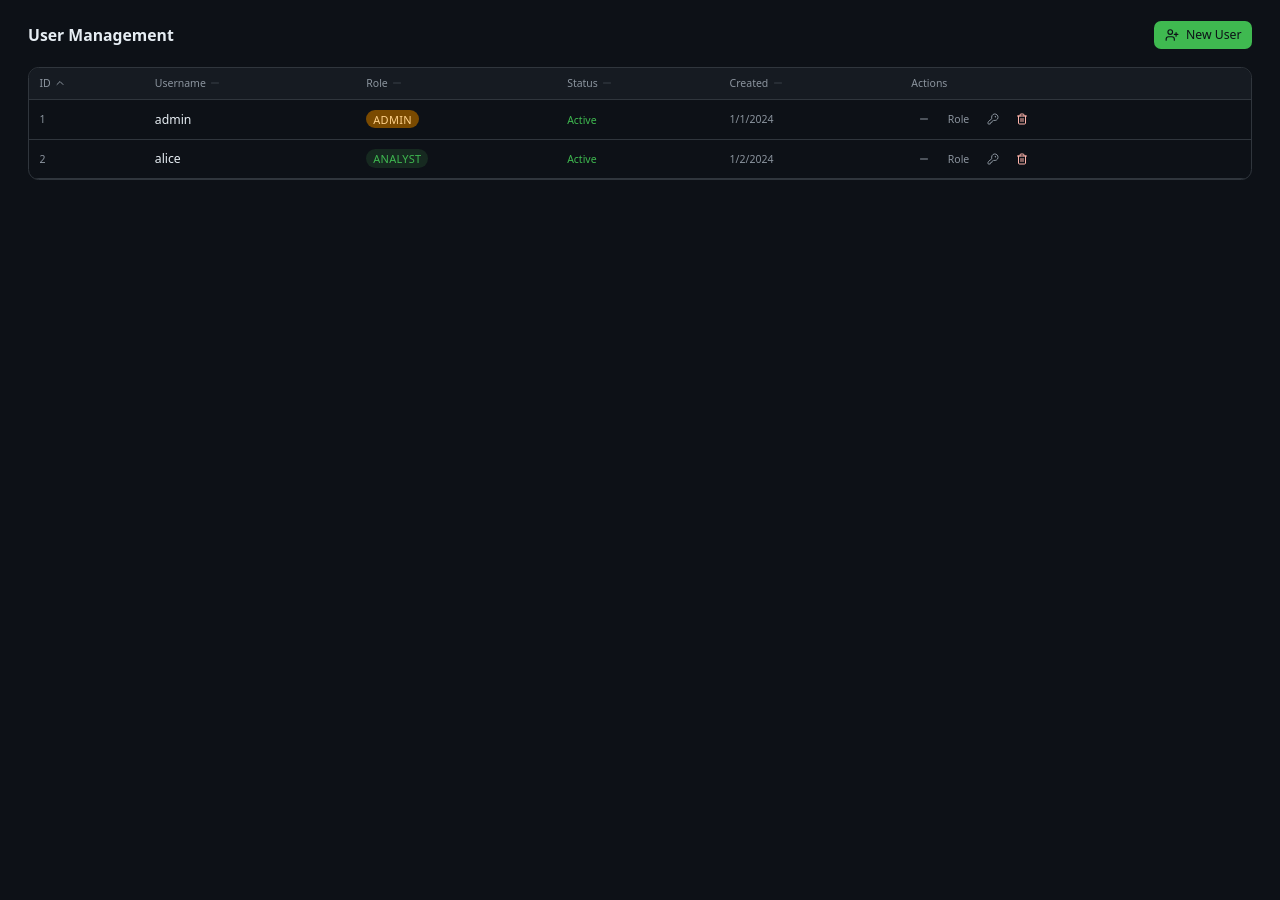
it: Users page › creates a user and refreshes list
This screenshot has width=1280, height=900.
# Open create dialog
Click the button with aria-label "create user": click(1203, 35) [1154,21,1252,49]
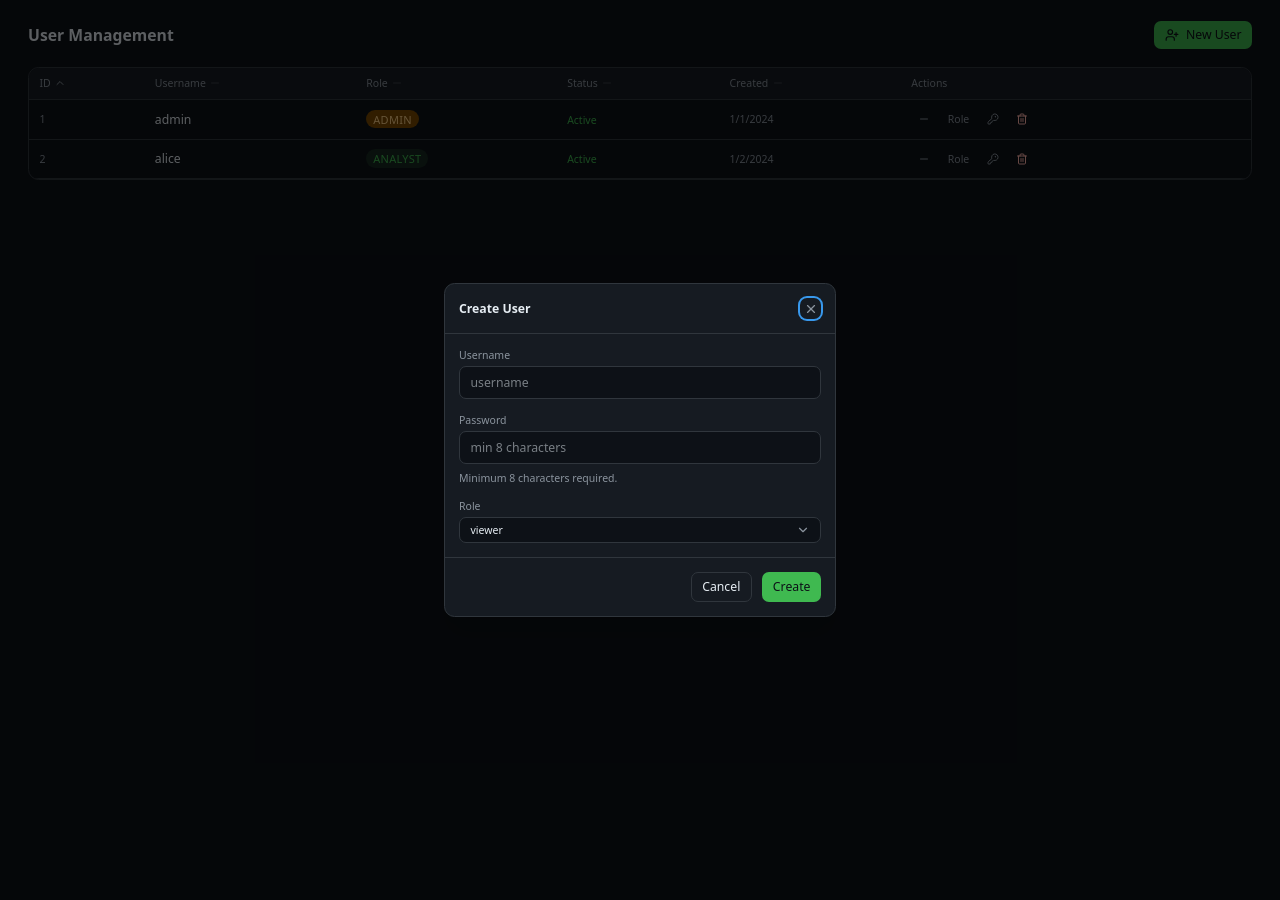
Result: the heading "Create User" is shown at [459,300,531,317]
# Fill in form
In the field with placeholder "username": (640, 382) [459,366,821,399], type "bob"
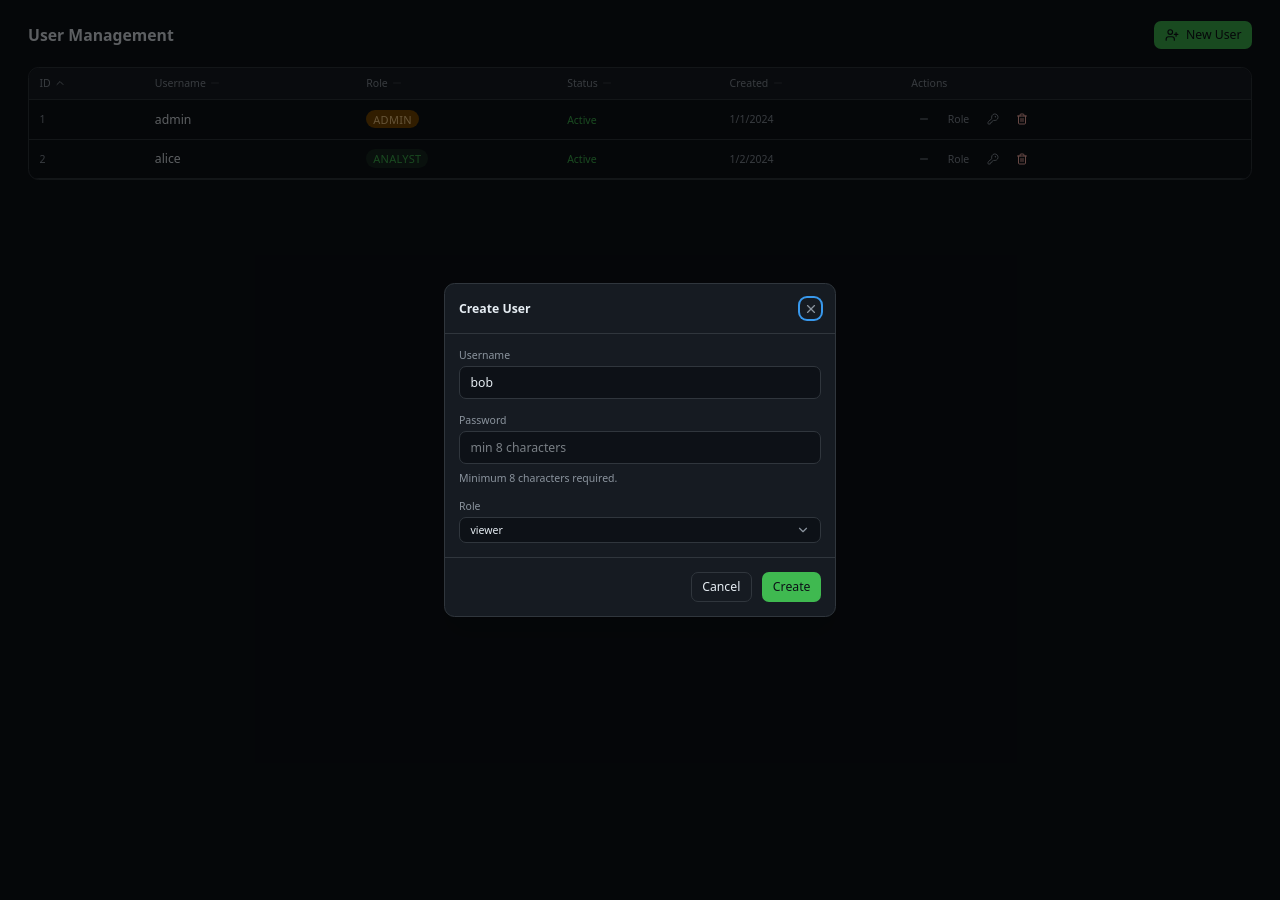
In the password field with placeholder "min 8 characters": (640, 447) [459,430,821,464], type "password123"
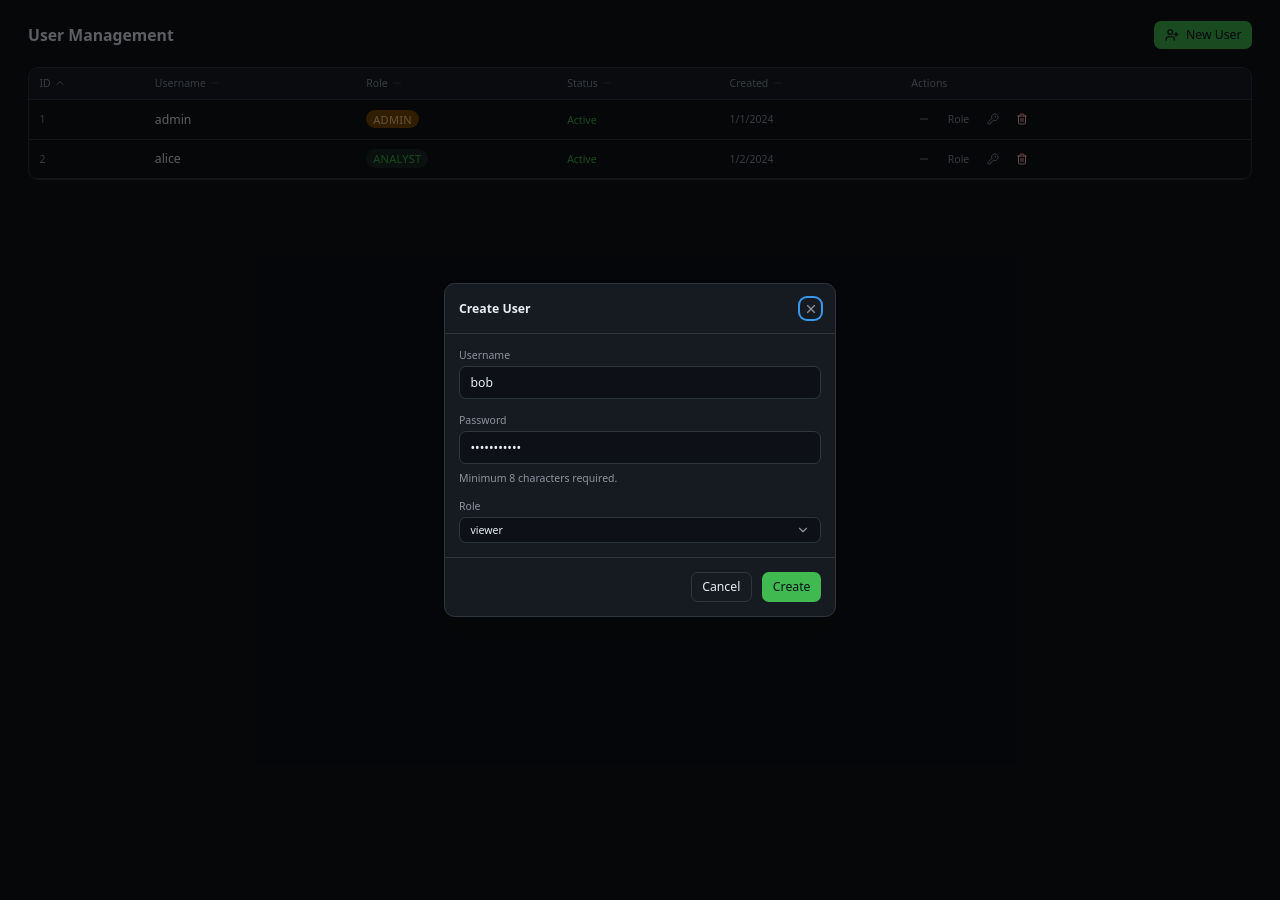
# Click Create
Click the button "Create": click(792, 587) [762,572,821,602]
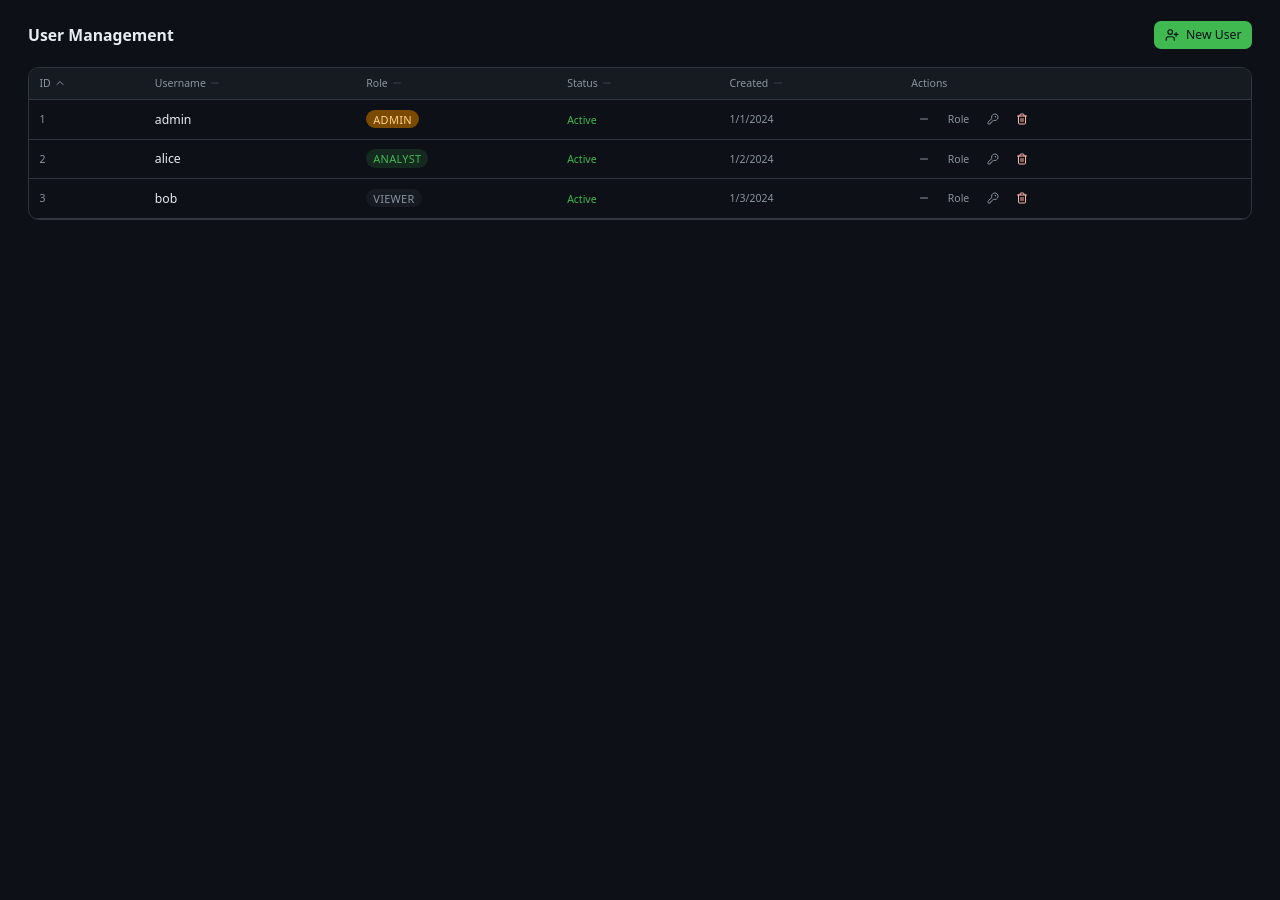
Result: the text "bob" is shown at [144,178,356,218]
